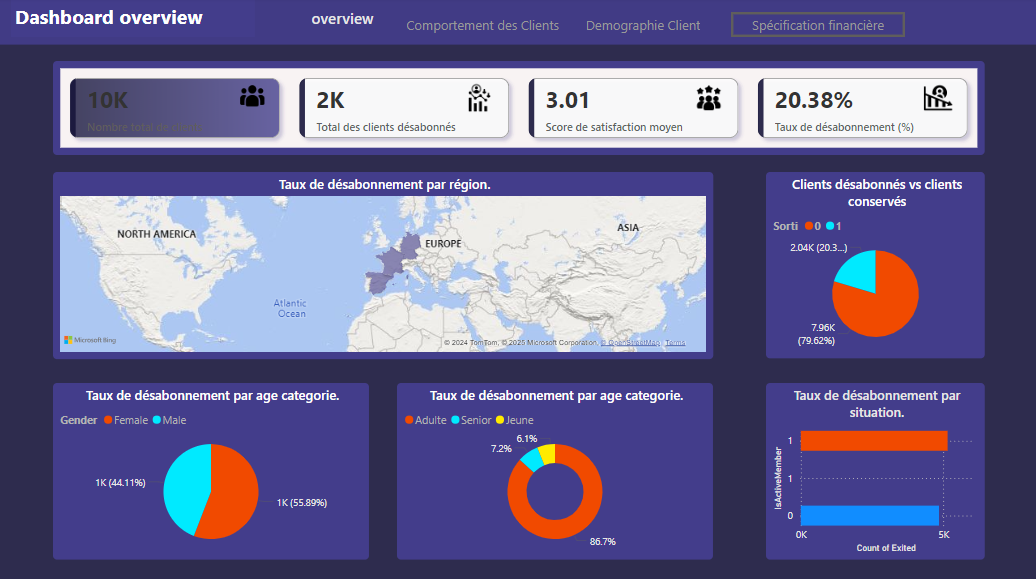

What the dashboard file says about the page in this screenshot:
{"tool":"powerbi","page":{"name":"Dashboard overview","canvas":[1280,720],"ordinal":0},"visuals":[{"type":"shape","box":[0,0,1279.8,58.8],"z":0},{"type":"cardVisual","fields":{"Data":["table_faits.id_Client","table_faits.Exited","table_faits.AvgSatisfactionScore","table_faits.ChurnRate"]},"box":[65.4,79,1150.4,116],"z":1000},{"type":"filledMap","title":"Taux de désabonnement par région.","fields":{"Category":["dim_Localisation.Geography"],"Y":["table_faits.ChurnedCustomers"]},"box":[65.4,216,814.7,230.8],"z":2000},{"type":"pieChart","title":"Clients désabonnés vs clients conservés","fields":{"Category":["table_faits.Exited"],"Y":["table_faits.id_Client"]},"box":[945.5,216,270.3,229.6],"z":3000},{"type":"donutChart","title":"Taux de désabonnement par age categorie.","fields":{"Category":["dim_Client.Age_Category"],"Y":["table_faits.Exited"]},"box":[490,476.5,390,218.5],"z":4000},{"type":"pieChart","title":"Taux de désabonnement par age categorie.","fields":{"Category":["dim_Client.Gender"],"Y":["table_faits.Exited"]},"box":[65.4,476.5,390,218.5],"z":5000},{"type":"barChart","title":"Taux de désabonnement par situation.","fields":{"Category":["dim_Client.IsActiveMember"],"Y":["table_faits.Exited"]},"box":[945,476,270,218],"z":6000},{"type":"actionButton","title":"overview","box":[373.2,13.2,99.9,30.9],"z":7000},{"type":"actionButton","title":"Demographie Client","box":[684.7,19.1,217.5,30.9],"z":8000},{"type":"actionButton","title":"Comportement  des Clients","box":[455.5,19.1,280.7,30.9],"z":9000},{"type":"actionButton","title":"Page 3","box":[902.3,18.5,214.8,30.9],"z":10000},{"type":"textbox","box":[13.6,2.5,301.2,46.9],"z":11000}]}

Visuals, with their boxes in screenshot pixels (x1, y1, x2, y2), scaled from the page's 1280x720 canvas onto the 1036x579 screenshot:
shape: bbox=(0, 0, 1035, 47)
cardVisual - table_faits.id_Client x table_faits.Exited: bbox=(53, 64, 984, 157)
"Taux de désabonnement par région." filledMap: bbox=(53, 174, 712, 359)
"Clients désabonnés vs clients conservés" pieChart: bbox=(765, 174, 984, 358)
"Taux de désabonnement par age categorie." donutChart: bbox=(397, 383, 712, 559)
"Taux de désabonnement par age categorie." pieChart: bbox=(53, 383, 369, 559)
"Taux de désabonnement par situation." barChart: bbox=(765, 383, 983, 558)
"overview" actionButton: bbox=(302, 11, 383, 35)
"Demographie Client" actionButton: bbox=(554, 15, 730, 40)
"Comportement  des Clients" actionButton: bbox=(369, 15, 596, 40)
"Page 3" actionButton: bbox=(730, 15, 904, 40)
textbox: bbox=(11, 2, 255, 40)
